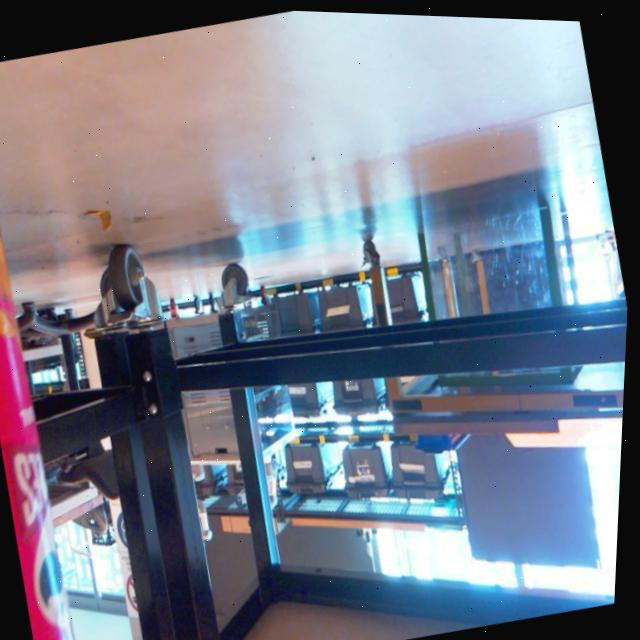redpringles: (0, 60, 131, 640)
